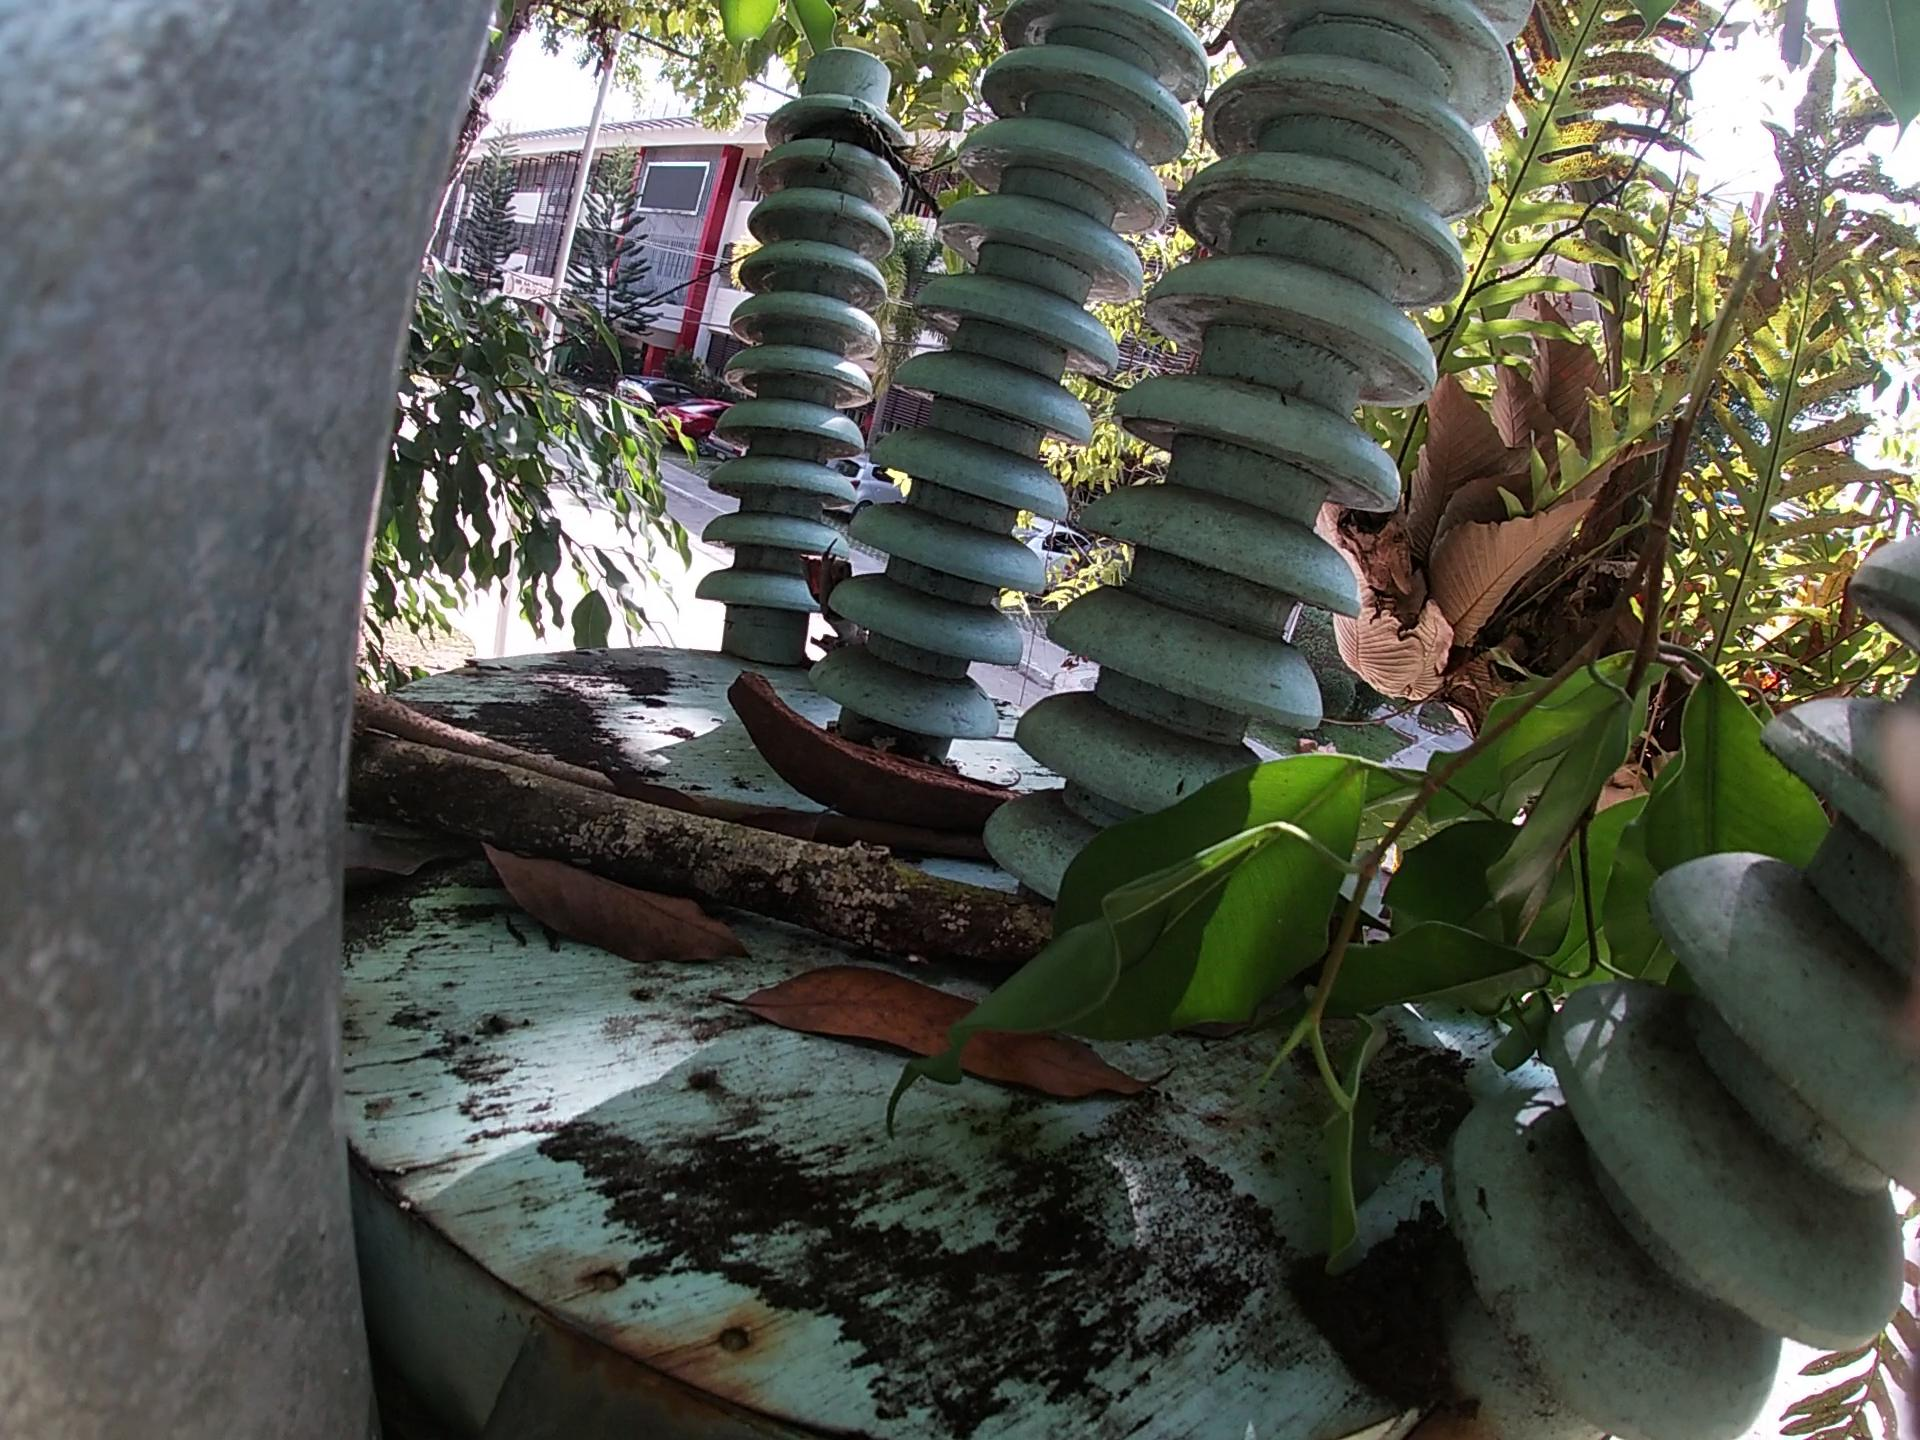branch with leaves: (887, 395, 1829, 1324)
leaf: (747, 982, 1163, 1113), (435, 846, 745, 967)
mahogany fruit: (721, 646, 1023, 846)
tree branch: (337, 728, 1176, 995), (361, 675, 626, 779)
